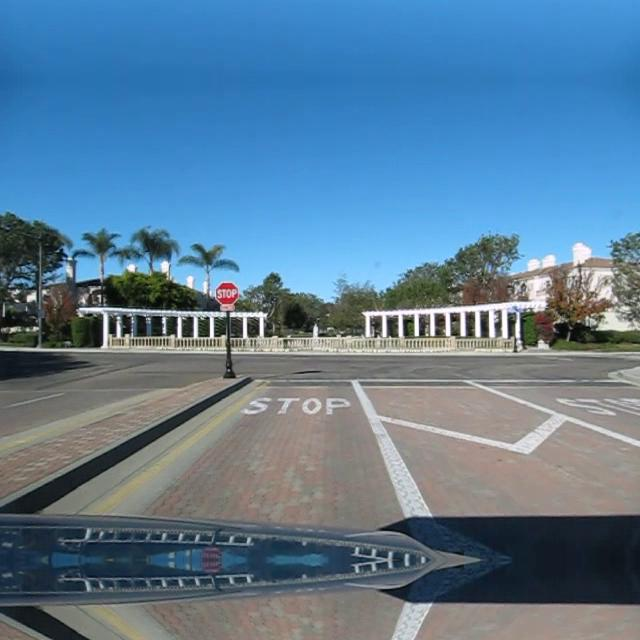stop: (214, 280, 238, 306)
